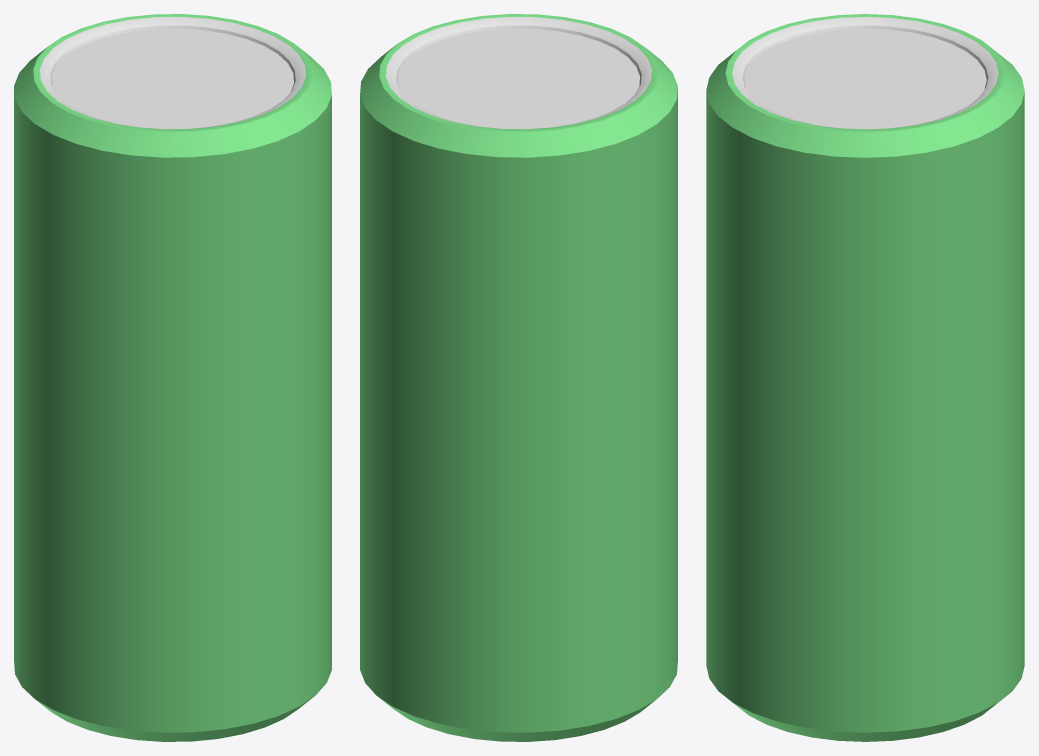
File: can.glb
3 renders of one model, left to right at view 1: azimuth 30°, elevation 25°; view 2: azimuth 150°, elevation 25°; view 3: azimuth 270°, elevation 25°, orthographic.
Visible parts, largest first — view 1: Cylinder; view 2: Cylinder; view 3: Cylinder.
Part boxes in pixels (left/top/right/bottom): Cylinder: left=14, top=14, right=331, bottom=741; Cylinder: left=360, top=14, right=677, bottom=741; Cylinder: left=706, top=14, right=1024, bottom=741.
Bounding box in the file's own units: 0.1546 × 0.3266 × 0.1546.
